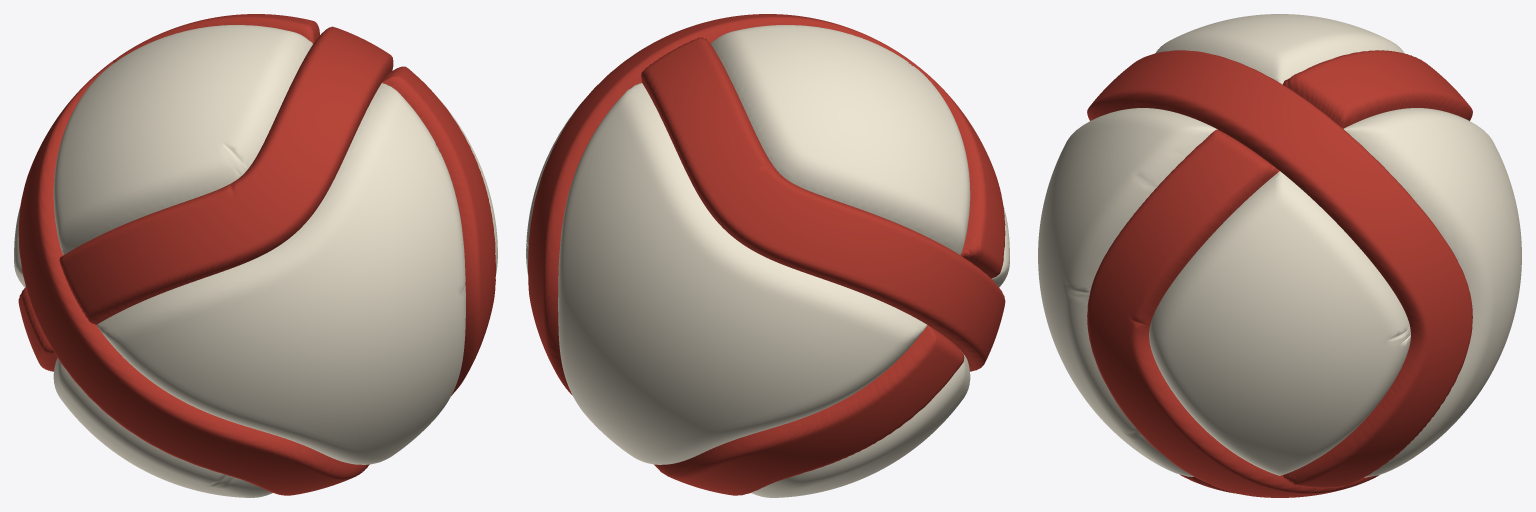
File: triquetra.glb
3 views of the same model, side by side, from view 1: azimuth 30°, elevation 25°; view 2: azimuth 150°, elevation 25°; view 3: azimuth 270°, elevation 25° (orthographic).
Visible parts, largest first — view 1: panel_004_polygon, panel_001_polygon, panel_003_polygon, panel_002_polygon, panel_006_polygon, panel_007_polygon; view 2: panel_008_polygon, panel_001_polygon, panel_002_polygon, panel_003_polygon, panel_006_polygon, panel_007_polygon; view 3: panel_005_polygon, panel_003_polygon, panel_006_polygon, panel_008_polygon, panel_004_polygon, panel_002_polygon, panel_001_polygon.
Part boxes in pixels (<box>): panel_004_polygon: <box>96,83,465,464</box>; panel_001_polygon: <box>53,25,312,255</box>; panel_003_polygon: <box>59,26,393,324</box>; panel_002_polygon: <box>18,14,369,495</box>; panel_006_polygon: <box>18,66,495,395</box>; panel_007_polygon: <box>53,358,272,497</box>; panel_008_polygon: <box>558,83,927,464</box>; panel_001_polygon: <box>711,25,970,255</box>; panel_002_polygon: <box>641,37,1005,371</box>; panel_003_polygon: <box>528,14,1005,395</box>; panel_006_polygon: <box>654,325,964,495</box>; panel_007_polygon: <box>751,350,970,497</box>; panel_005_polygon: <box>1149,171,1410,475</box>; panel_003_polygon: <box>1087,50,1472,488</box>; panel_006_polygon: <box>1087,129,1379,497</box>; panel_008_polygon: <box>1343,108,1521,477</box>; panel_004_polygon: <box>1038,108,1217,476</box>; panel_002_polygon: <box>1179,50,1472,493</box>; panel_001_polygon: <box>1155,14,1404,84</box>.
Bounding box in the file's own units: 4.24 × 4.24 × 4.24.
